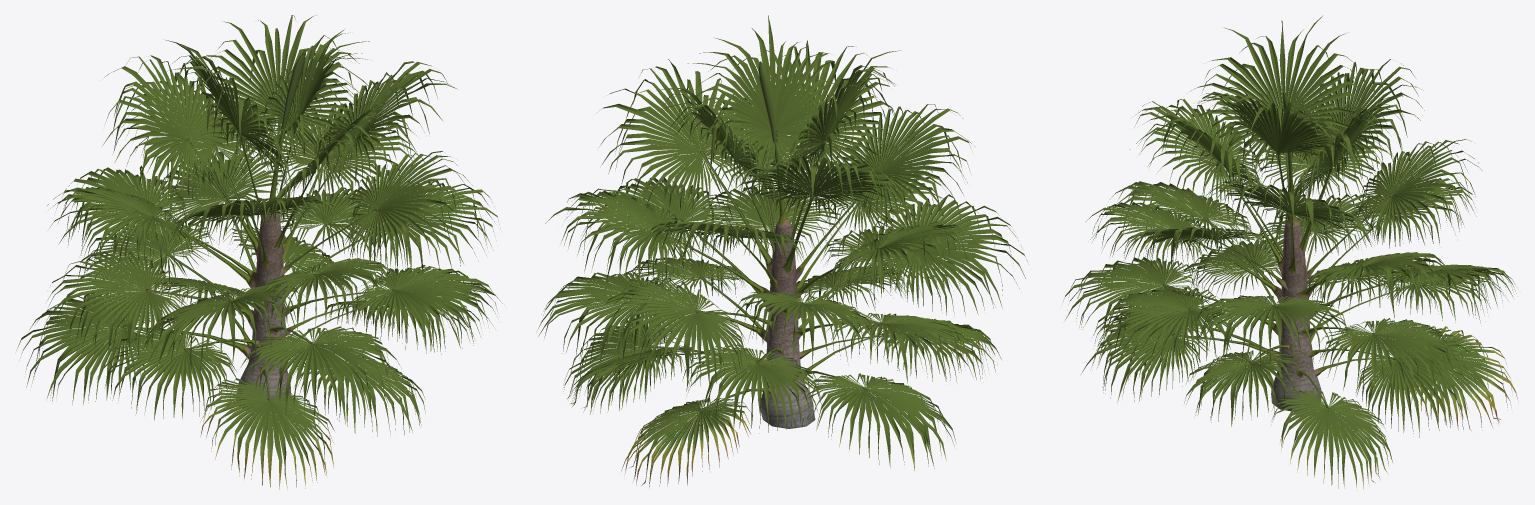
Rendered from Washingtonia filifera HD_Curved mat 0_LOD1.fbx.
The picture shows the model from 3 angles, left to right: view 1: azimuth 30°, elevation 25°; view 2: azimuth 150°, elevation 25°; view 3: azimuth 270°, elevation 25°; orthographic projection. The views are drawn at different scales.
Visible parts, largest first — view 1: Washingtonia_filifera_HD; view 2: Washingtonia_filifera_HD; view 3: Washingtonia_filifera_HD.
Boxes of the visible parts, x1,y1,x2,y2 form: Washingtonia_filifera_HD: (15, 15, 504, 489); Washingtonia_filifera_HD: (536, 15, 1027, 487); Washingtonia_filifera_HD: (1063, 16, 1517, 490).
Bounding box in the file's own units: 4.06 × 3.45 × 4.11.
Materials: 6 (6 with a texture image).
